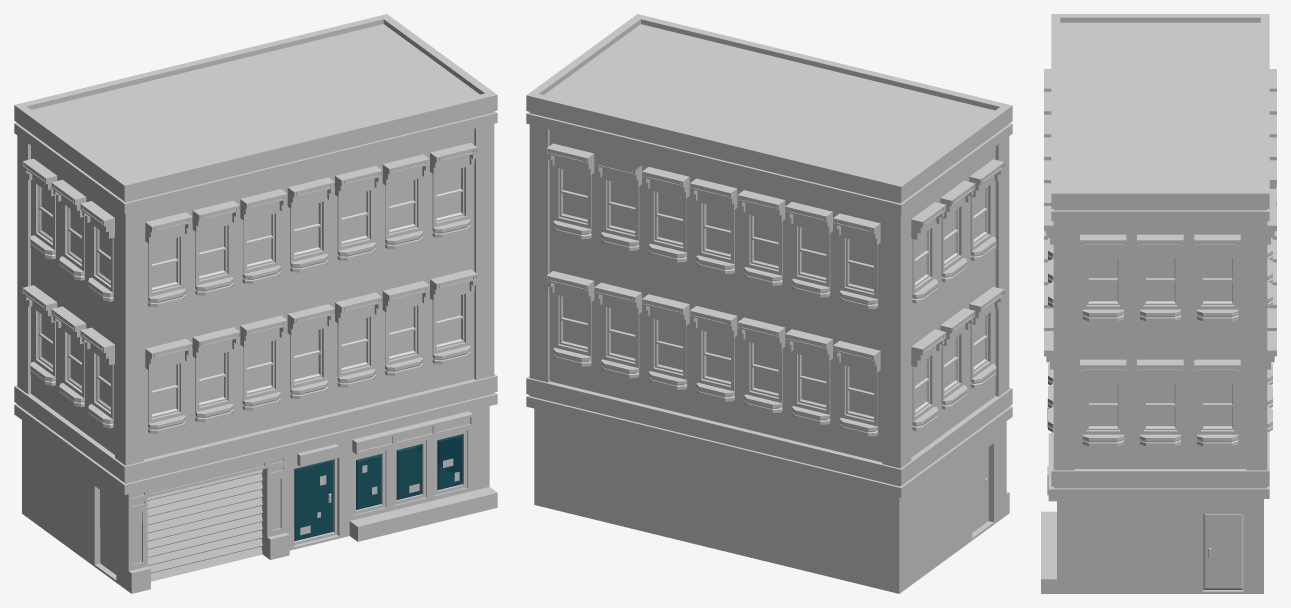
Rendered from shop_03_large.fbx.
3 renders of one model, left to right at view 1: azimuth 30°, elevation 25°; view 2: azimuth 150°, elevation 25°; view 3: azimuth 270°, elevation 25°, orthographic.
Parts seen in each view (by area): view 1: shop_03_large, shop_03_large_glass; view 2: shop_03_large; view 3: shop_03_large.
Boxes of the visible parts, x1,y1,x2,y2 form: shop_03_large: (14, 14, 497, 593); shop_03_large_glass: (294, 434, 462, 541); shop_03_large: (526, 14, 1012, 593); shop_03_large: (1041, 14, 1276, 593).
Bounding box in the file's own units: 1275 × 1289 × 684.
